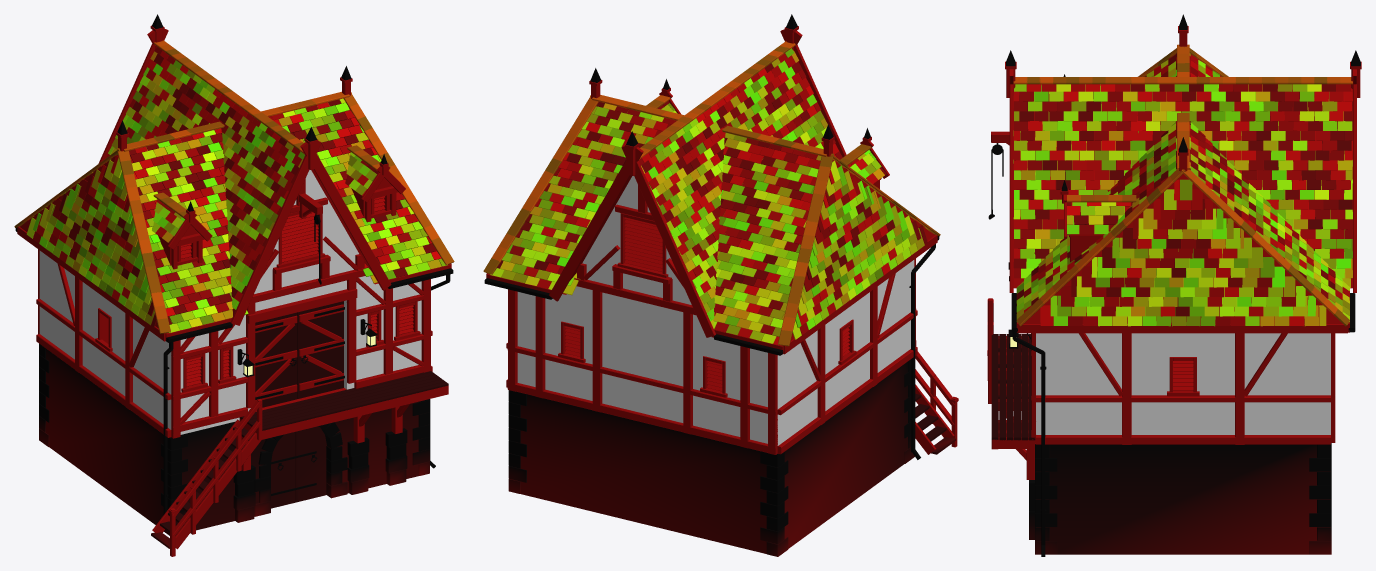
File: SilverbrookGranary.fbx
The picture shows the model from 3 angles, left to right: view 1: azimuth 30°, elevation 25°; view 2: azimuth 150°, elevation 25°; view 3: azimuth 270°, elevation 25°; orthographic projection. The views are drawn at different scales.
Visible parts, largest first — view 1: SM_SBGranary_Roof, SM_SBGranary_Timber, SM_SBGranary_Masonry, SM_SBGranary_Plaster, SM_SBGranary_Details; view 2: SM_SBGranary_Roof, SM_SBGranary_Masonry, SM_SBGranary_Timber, SM_SBGranary_Plaster, SM_SBGranary_Details; view 3: SM_SBGranary_Roof, SM_SBGranary_Masonry, SM_SBGranary_Plaster, SM_SBGranary_Timber, SM_SBGranary_Details.
Part boxes in pixels (box(x1,y1,x2,y2)): SM_SBGranary_Roof: box(14, 40, 454, 333); SM_SBGranary_Timber: box(17, 25, 451, 556); SM_SBGranary_Masonry: box(39, 343, 429, 535); SM_SBGranary_Plaster: box(39, 170, 421, 434); SM_SBGranary_Details: box(15, 14, 453, 514); SM_SBGranary_Roof: box(483, 41, 940, 346); SM_SBGranary_Masonry: box(508, 359, 914, 556); SM_SBGranary_Timber: box(486, 26, 958, 454); SM_SBGranary_Plaster: box(517, 176, 914, 445); SM_SBGranary_Details: box(484, 14, 939, 459); SM_SBGranary_Roof: box(1013, 44, 1352, 326); SM_SBGranary_Masonry: box(1029, 443, 1331, 554); SM_SBGranary_Plaster: box(1036, 333, 1330, 434); SM_SBGranary_Timber: box(987, 26, 1361, 479); SM_SBGranary_Details: box(988, 14, 1360, 556).
Size of the model in its own units: 784 by 974 by 762.
